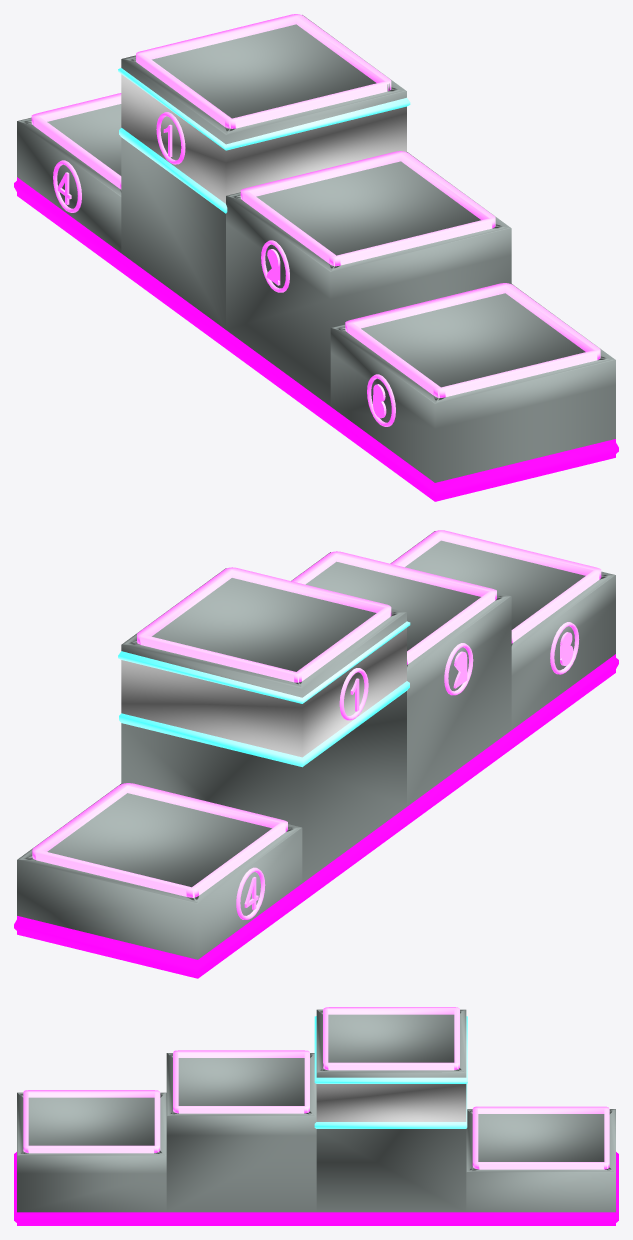
File: PODIUMFINAL.fbx
The picture shows the model from 3 angles, top to bottom: view 1: azimuth 30°, elevation 25°; view 2: azimuth 150°, elevation 25°; view 3: azimuth 270°, elevation 25°; orthographic projection. The views are drawn at different scales.
Visible parts, largest first — view 1: Box001, TextPlus002; view 2: Box001, TextPlus002; view 3: Box001.
Part boxes in pixels (x1,y1,x2,y2): Box001: (14, 14, 618, 501); TextPlus002: (57, 124, 386, 418); Box001: (14, 530, 618, 978); TextPlus002: (244, 632, 573, 909); Box001: (14, 1007, 618, 1225).
Bounding box in the file's own units: 10336 × 11648 × 40387.
